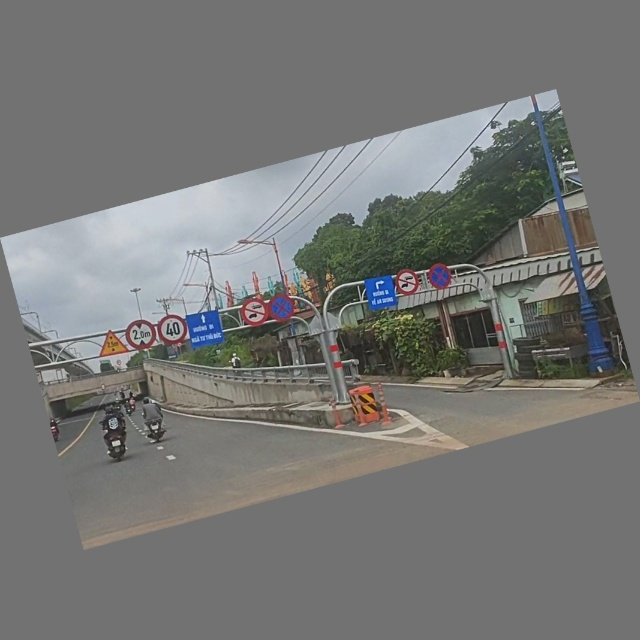P.107: (238, 295, 272, 331), (392, 267, 423, 300)
P.117*: (123, 317, 161, 354)
P.127*40: (156, 311, 191, 349)
P.130: (265, 291, 298, 326), (425, 260, 456, 293)
W.239b*: (94, 327, 130, 362)
